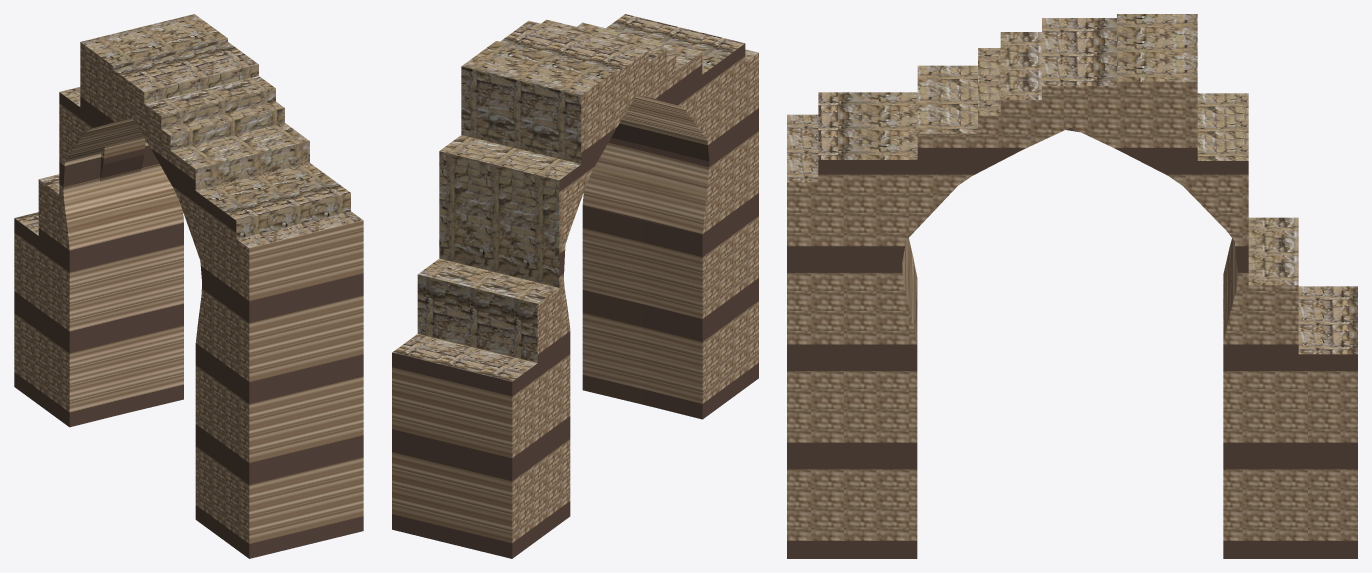
File: Persian_WallEntrance_Semidemolished.fbx
3 views of the same model, side by side, from view 1: azimuth 30°, elevation 25°; view 2: azimuth 150°, elevation 25°; view 3: azimuth 270°, elevation 25° (orthographic). The views are drawn at different scales.
Parts seen in each view (by area): view 1: entrada; view 2: entrada; view 3: entrada.
Part boxes in pixels (box(x1,y1,x2,y2)): entrada: box(14, 14, 363, 558); entrada: box(392, 14, 758, 558); entrada: box(787, 14, 1357, 558).
Bounding box in the file's own units: 1.97 × 6.46 × 7.
1 material, 1 textured.
